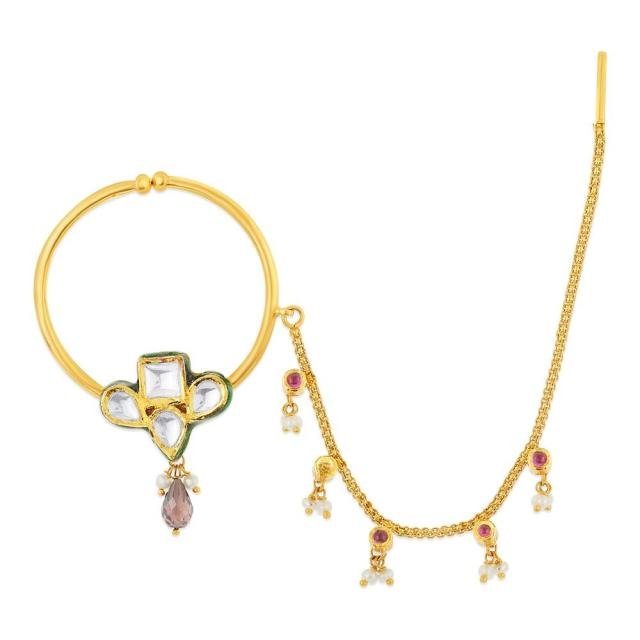missing gem: (317, 458, 335, 475)
